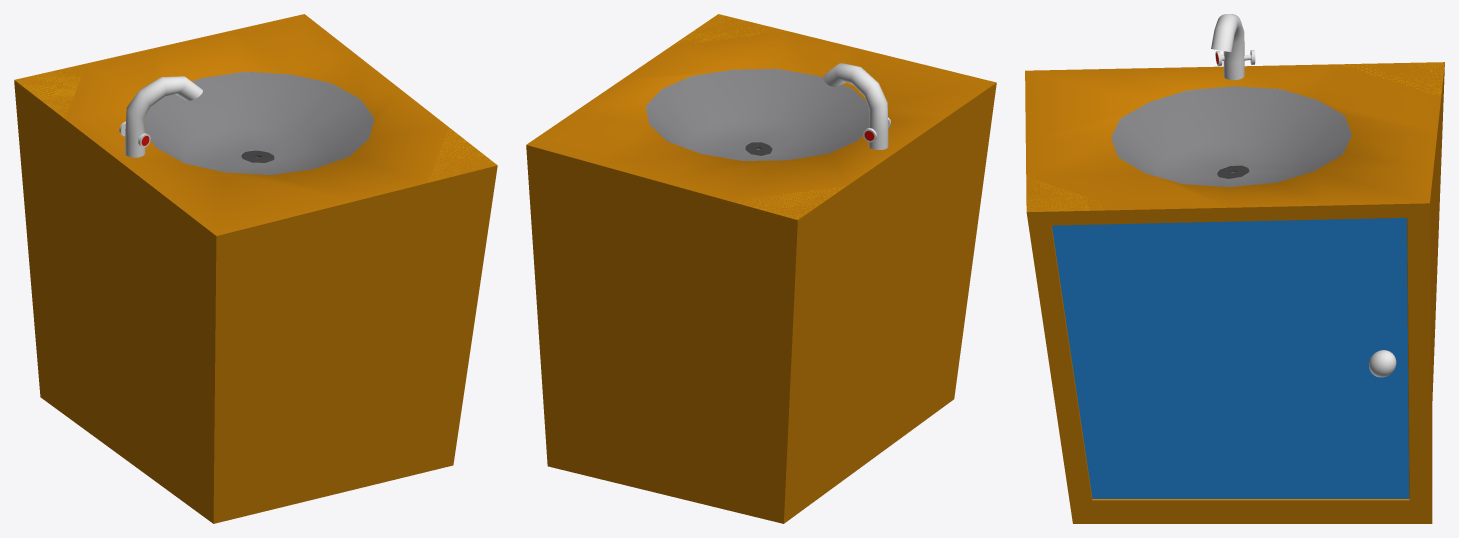
Rendered from sink 1.fbx.
3 views of the same model, side by side, from view 1: azimuth 30°, elevation 25°; view 2: azimuth 150°, elevation 25°; view 3: azimuth 270°, elevation 25° (orthographic). The views are drawn at different scales.
Visible parts, largest first — view 1: Cube, Cylinder; view 2: Cube, Cylinder; view 3: Cube.001, Cube, Cylinder, Sphere.
Boxes of the visible parts, x1,y1,x2,y2 form: Cube: [14, 14, 497, 523]; Cylinder: [125, 76, 202, 157]; Cube: [526, 14, 996, 523]; Cylinder: [823, 63, 888, 149]; Cube.001: [1052, 218, 1409, 498]; Cube: [1025, 62, 1444, 523]; Cylinder: [1211, 14, 1244, 80]; Sphere: [1369, 350, 1396, 377].
Bounding box in the file's own units: 191 × 246 × 234.
